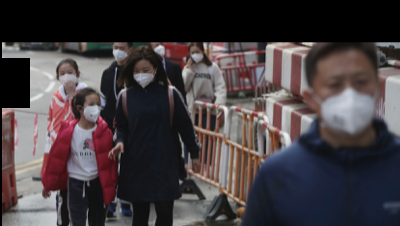with_mask: (315, 68, 377, 138), (133, 64, 155, 88), (83, 99, 102, 122), (59, 67, 78, 86), (112, 44, 129, 62), (190, 48, 204, 63), (153, 43, 166, 56)
